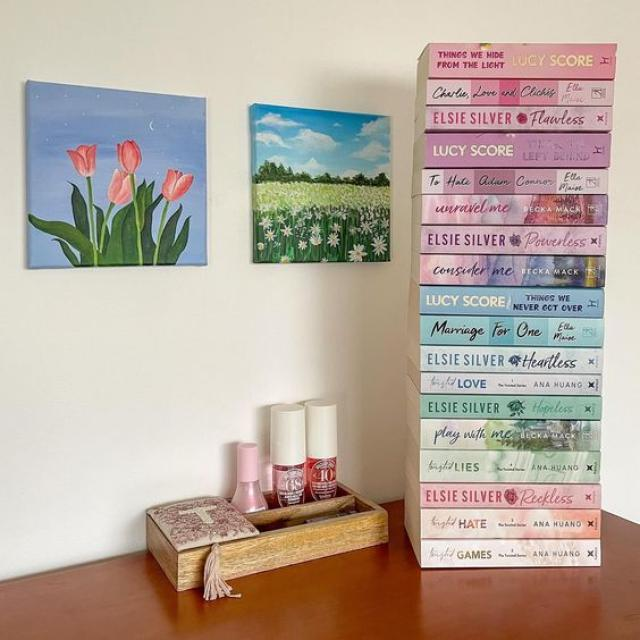book: (421, 133, 609, 168), (427, 44, 615, 77), (420, 254, 604, 287), (420, 449, 601, 482), (421, 315, 603, 347), (421, 420, 599, 452), (421, 195, 606, 225), (421, 508, 601, 538), (420, 288, 603, 317), (421, 226, 606, 254), (427, 79, 613, 106), (420, 538, 602, 565), (421, 483, 602, 509), (422, 169, 607, 194), (420, 395, 600, 420), (426, 107, 610, 130), (420, 348, 601, 371), (421, 373, 600, 395)
